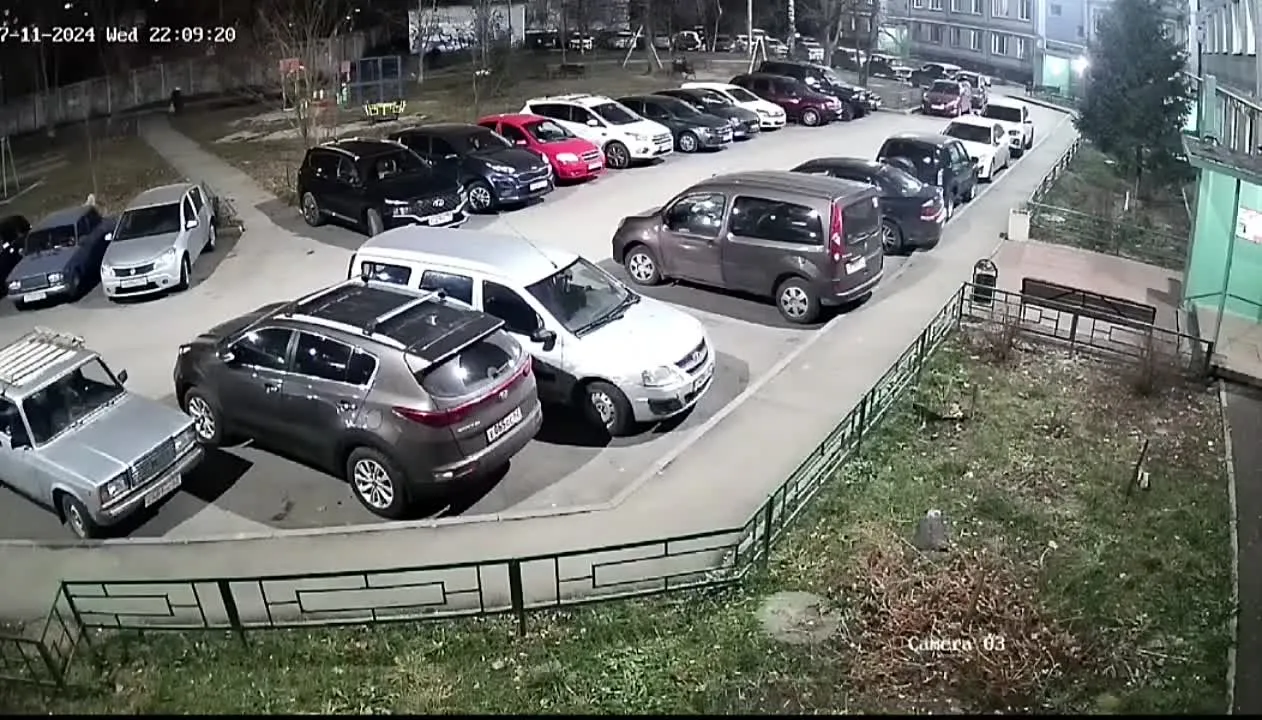Car: (173, 280, 542, 518), (347, 226, 717, 437), (0, 329, 205, 539), (611, 170, 885, 325), (295, 138, 467, 236), (790, 157, 946, 254), (100, 178, 221, 301), (389, 123, 553, 213), (520, 94, 674, 169), (4, 204, 112, 308), (478, 113, 603, 182), (876, 134, 977, 218), (617, 94, 734, 154), (759, 59, 871, 119), (732, 73, 843, 127), (656, 88, 761, 140), (680, 81, 787, 131), (941, 115, 1011, 182), (981, 100, 1035, 155), (0, 212, 32, 298), (920, 76, 971, 118), (910, 62, 960, 88), (954, 72, 988, 107), (869, 54, 911, 81), (832, 47, 866, 71), (795, 41, 825, 61), (709, 33, 736, 53), (607, 31, 637, 48), (673, 33, 699, 52), (568, 31, 594, 50), (766, 38, 789, 55), (734, 34, 756, 51), (787, 35, 817, 47), (533, 34, 556, 48), (654, 31, 669, 49), (752, 28, 771, 41), (870, 93, 881, 110)
